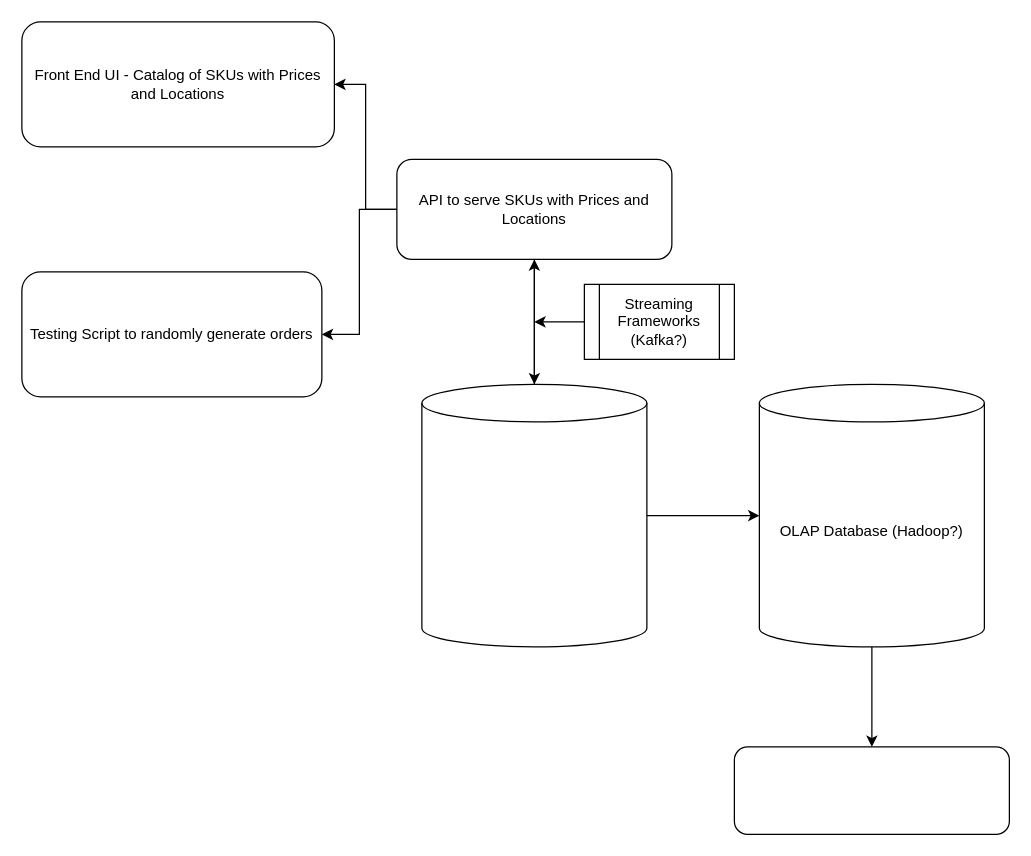
The diagram is 1031 pixels wide and 856 high, and some of its shapes have lost their labels. The centre of each missing label's shape, as x and y in pixels:
"Analytics? Data Mart?" goes at [871,790].
"OLTP Database (Hadoop?)" goes at [534,515].
